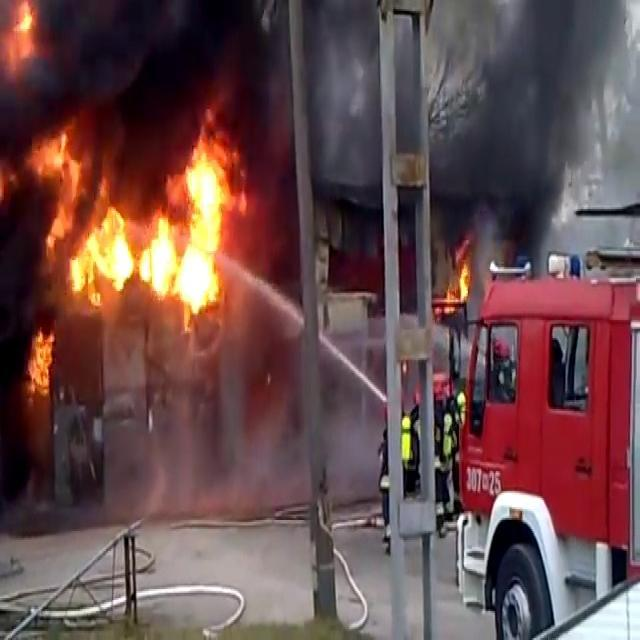Fire: (4, 109, 250, 391), (440, 243, 470, 318)
Smoke: (4, 1, 638, 234)
